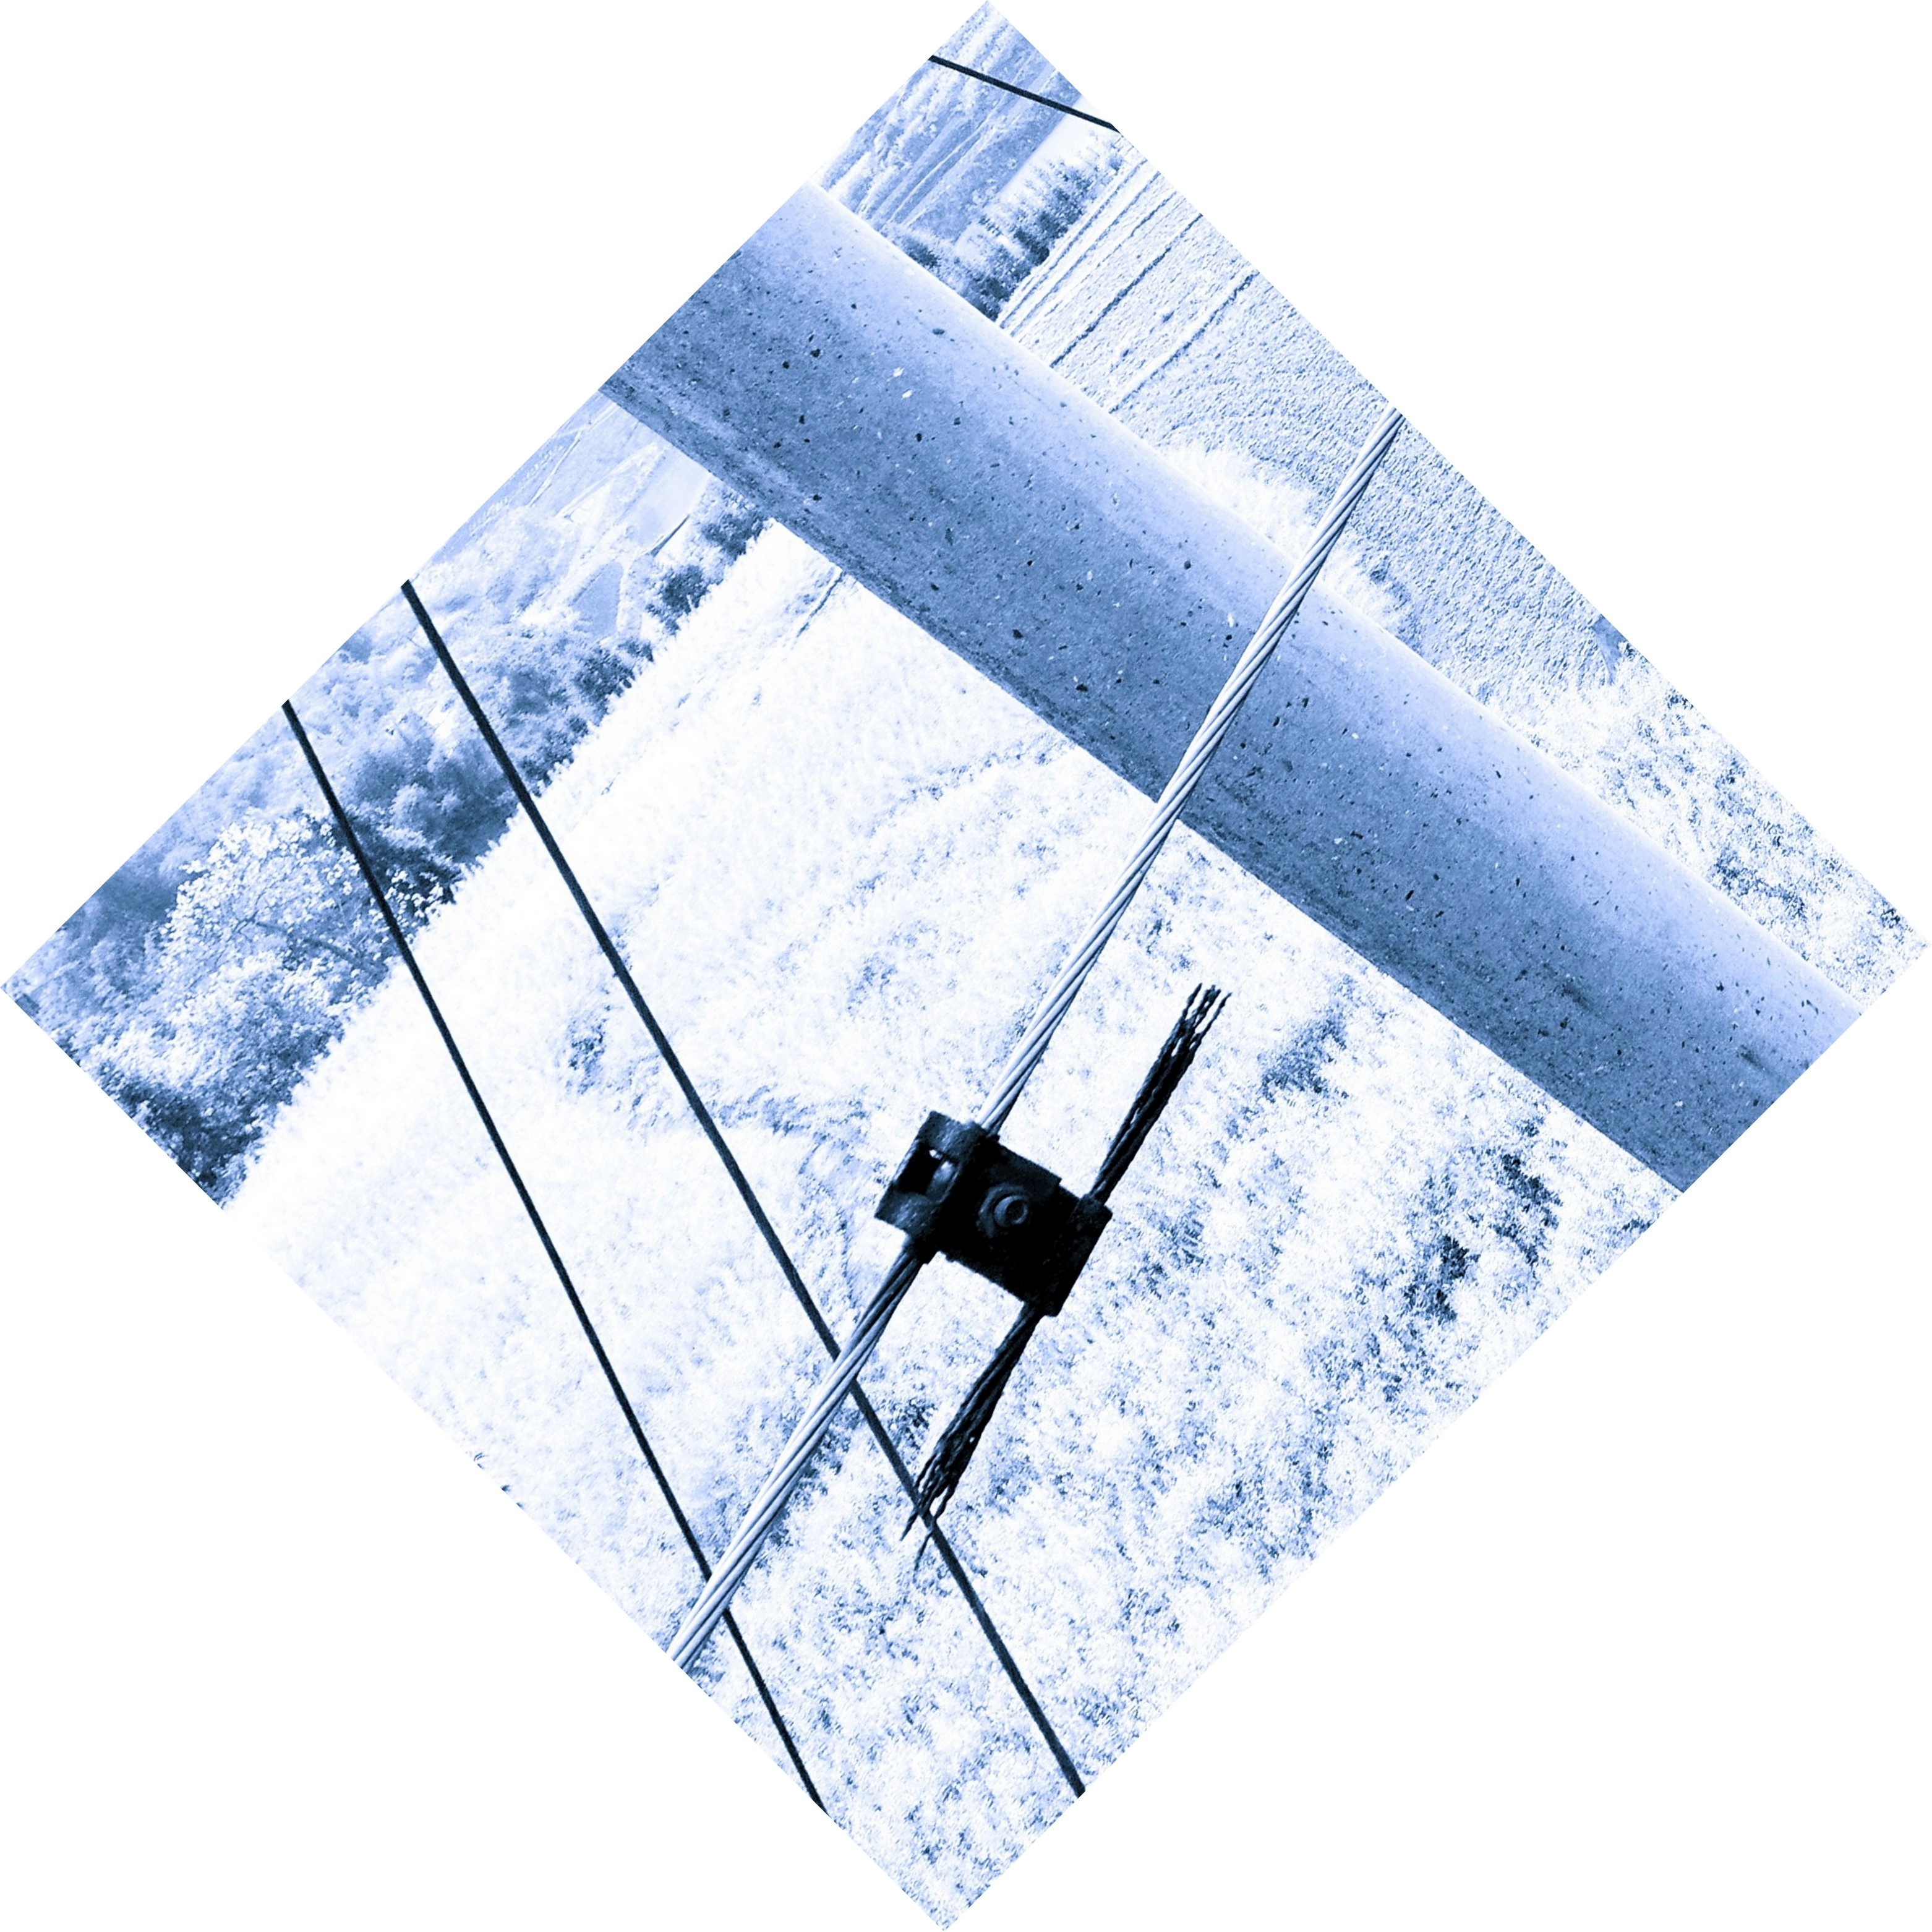Damage of shockproof hammer: (846, 929, 1261, 1573)
